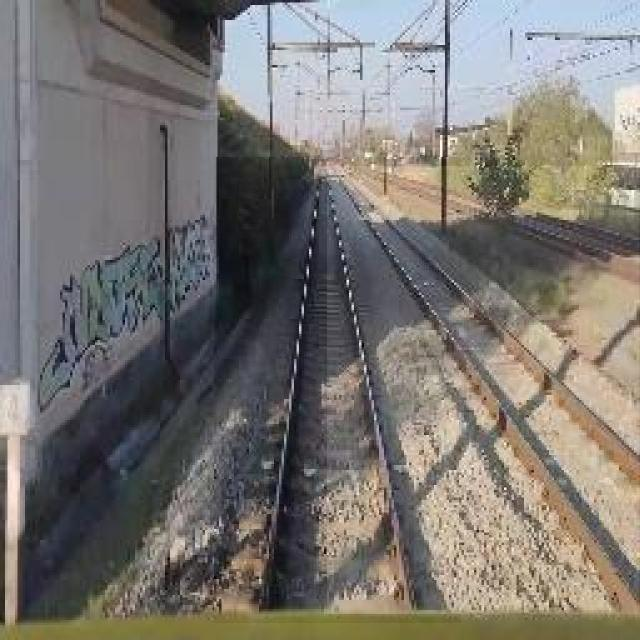rail: (329, 168, 640, 615), (217, 159, 462, 624)
